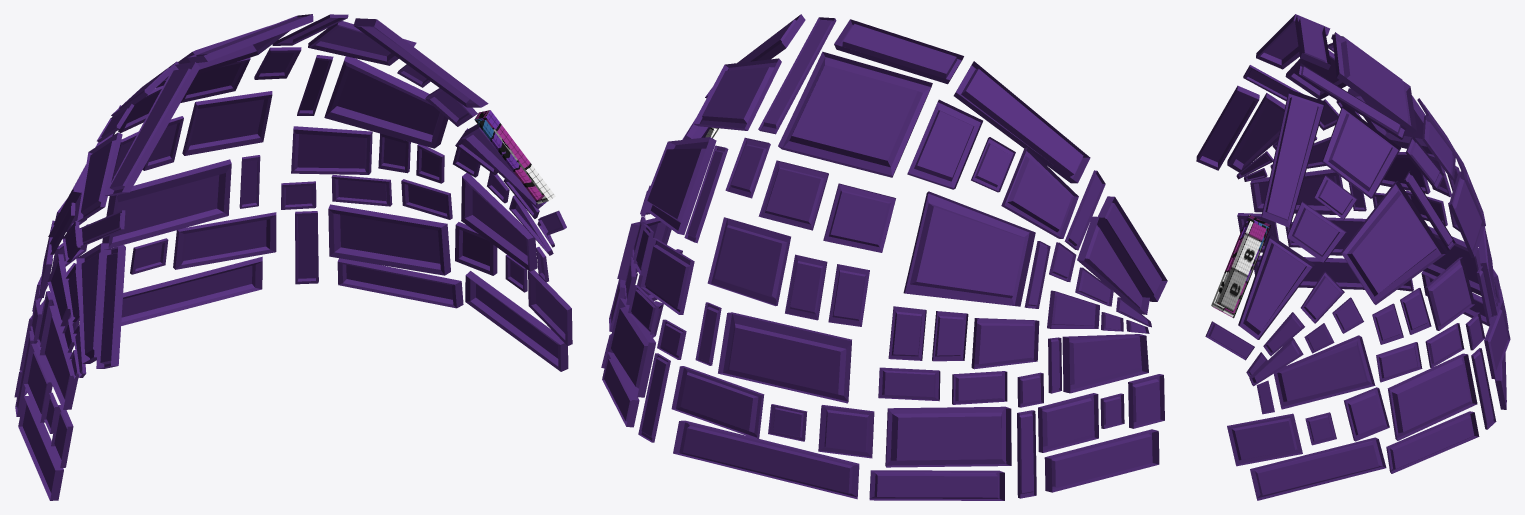
The model's file is ArenaTVs.fbx.
3 views of the same model, side by side, from view 1: azimuth 30°, elevation 25°; view 2: azimuth 150°, elevation 25°; view 3: azimuth 270°, elevation 25° (orthographic). The views are drawn at different scales.
Parts seen in each view (by area): view 1: TV8; view 2: TV8; view 3: TV8.
Part boxes in pixels (x1=…): TV8: x1=14, y1=14, x2=572, y2=500; TV8: x1=601, y1=14, x2=1167, y2=500; TV8: x1=1196, y1=14, x2=1510, y2=500.
Size of the model in its own units: 300 by 221 by 177.
1 material, 1 textured.
